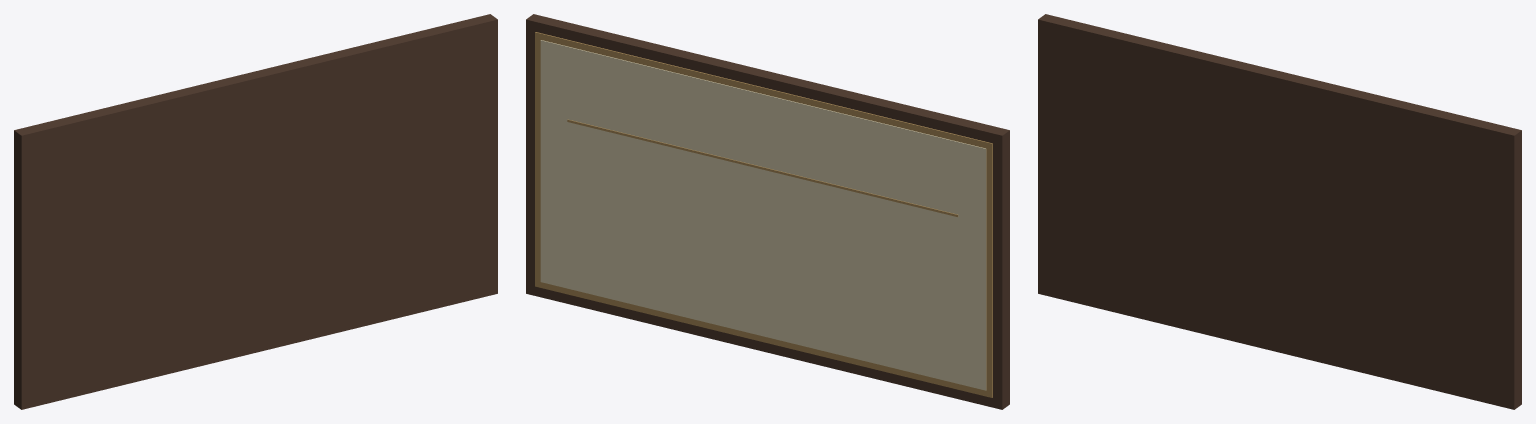
Rendered from LP_Central_Directory.fbx.
3 renders of one model, left to right at view 1: azimuth 30°, elevation 25°; view 2: azimuth 150°, elevation 25°; view 3: azimuth 330°, elevation 25°, orthographic.
Parts seen in each view (by area): view 1: Walnut; view 2: WarmIvory, Walnut, AgedBrass; view 3: Walnut.
Part boxes in pixels (bbox=[...]): Walnut: bbox=[14, 14, 497, 409]; WarmIvory: bbox=[540, 40, 986, 390]; Walnut: bbox=[526, 14, 1009, 409]; AgedBrass: bbox=[535, 32, 992, 397]; Walnut: bbox=[1038, 14, 1521, 409].
Bounding box in the file's own units: 200 × 110 × 6.6.
